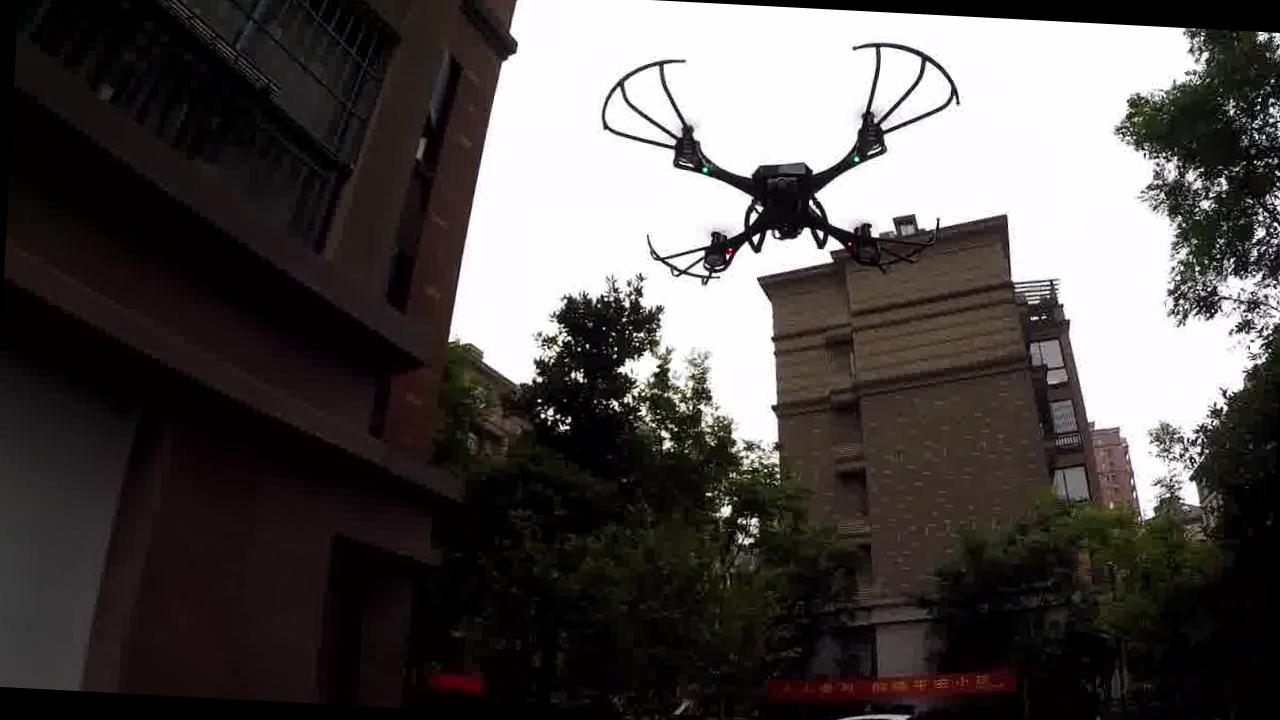drone: (588, 22, 968, 314)
